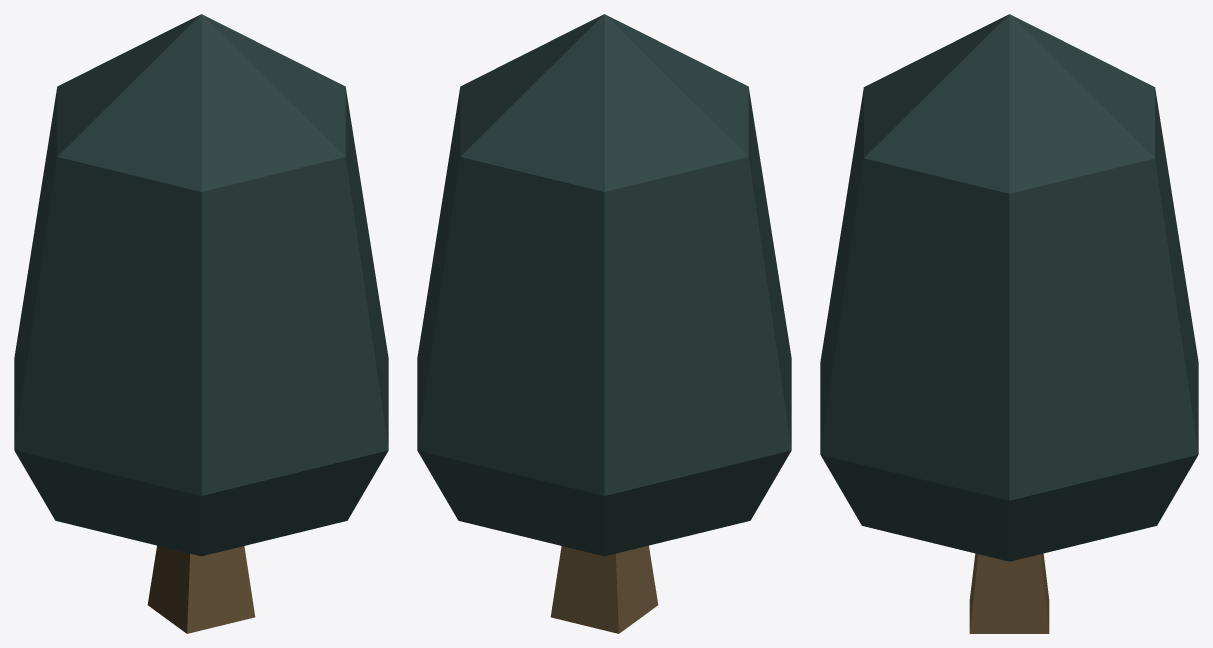
The model's file is Large_Oak_Dark_01.obj.
3 views of the same model, side by side, from view 1: azimuth 30°, elevation 25°; view 2: azimuth 150°, elevation 25°; view 3: azimuth 270°, elevation 25° (orthographic).
Parts seen in each view (by area): view 1: Mesh1_Large_Oak_Dark_Model; view 2: Mesh1_Large_Oak_Dark_Model; view 3: Mesh1_Large_Oak_Dark_Model.
Boxes of the visible parts, <box> form: Mesh1_Large_Oak_Dark_Model: <box>14,14,388,633</box>; Mesh1_Large_Oak_Dark_Model: <box>417,14,791,633</box>; Mesh1_Large_Oak_Dark_Model: <box>820,14,1198,633</box>.
Bounding box in the file's own units: 3.02 × 4.6 × 2.62.
